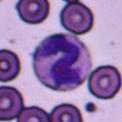N: (32, 33, 91, 91)
